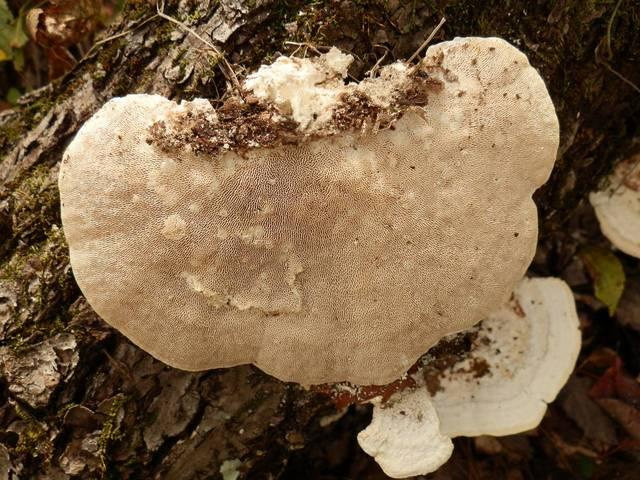poisonous_mushroom: (56, 33, 640, 480)
